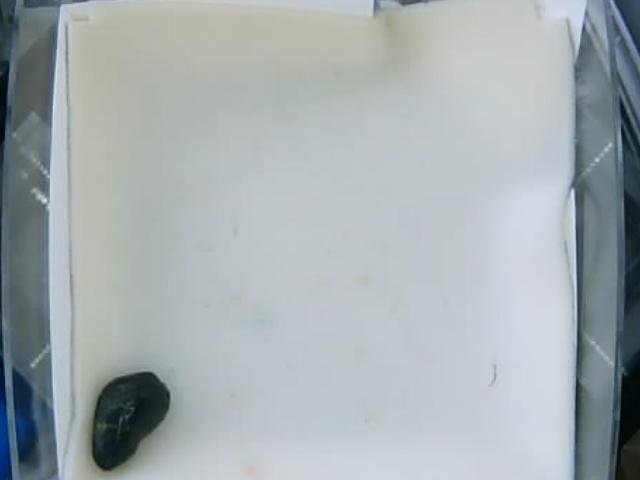Pebble: (91, 372, 171, 476)
